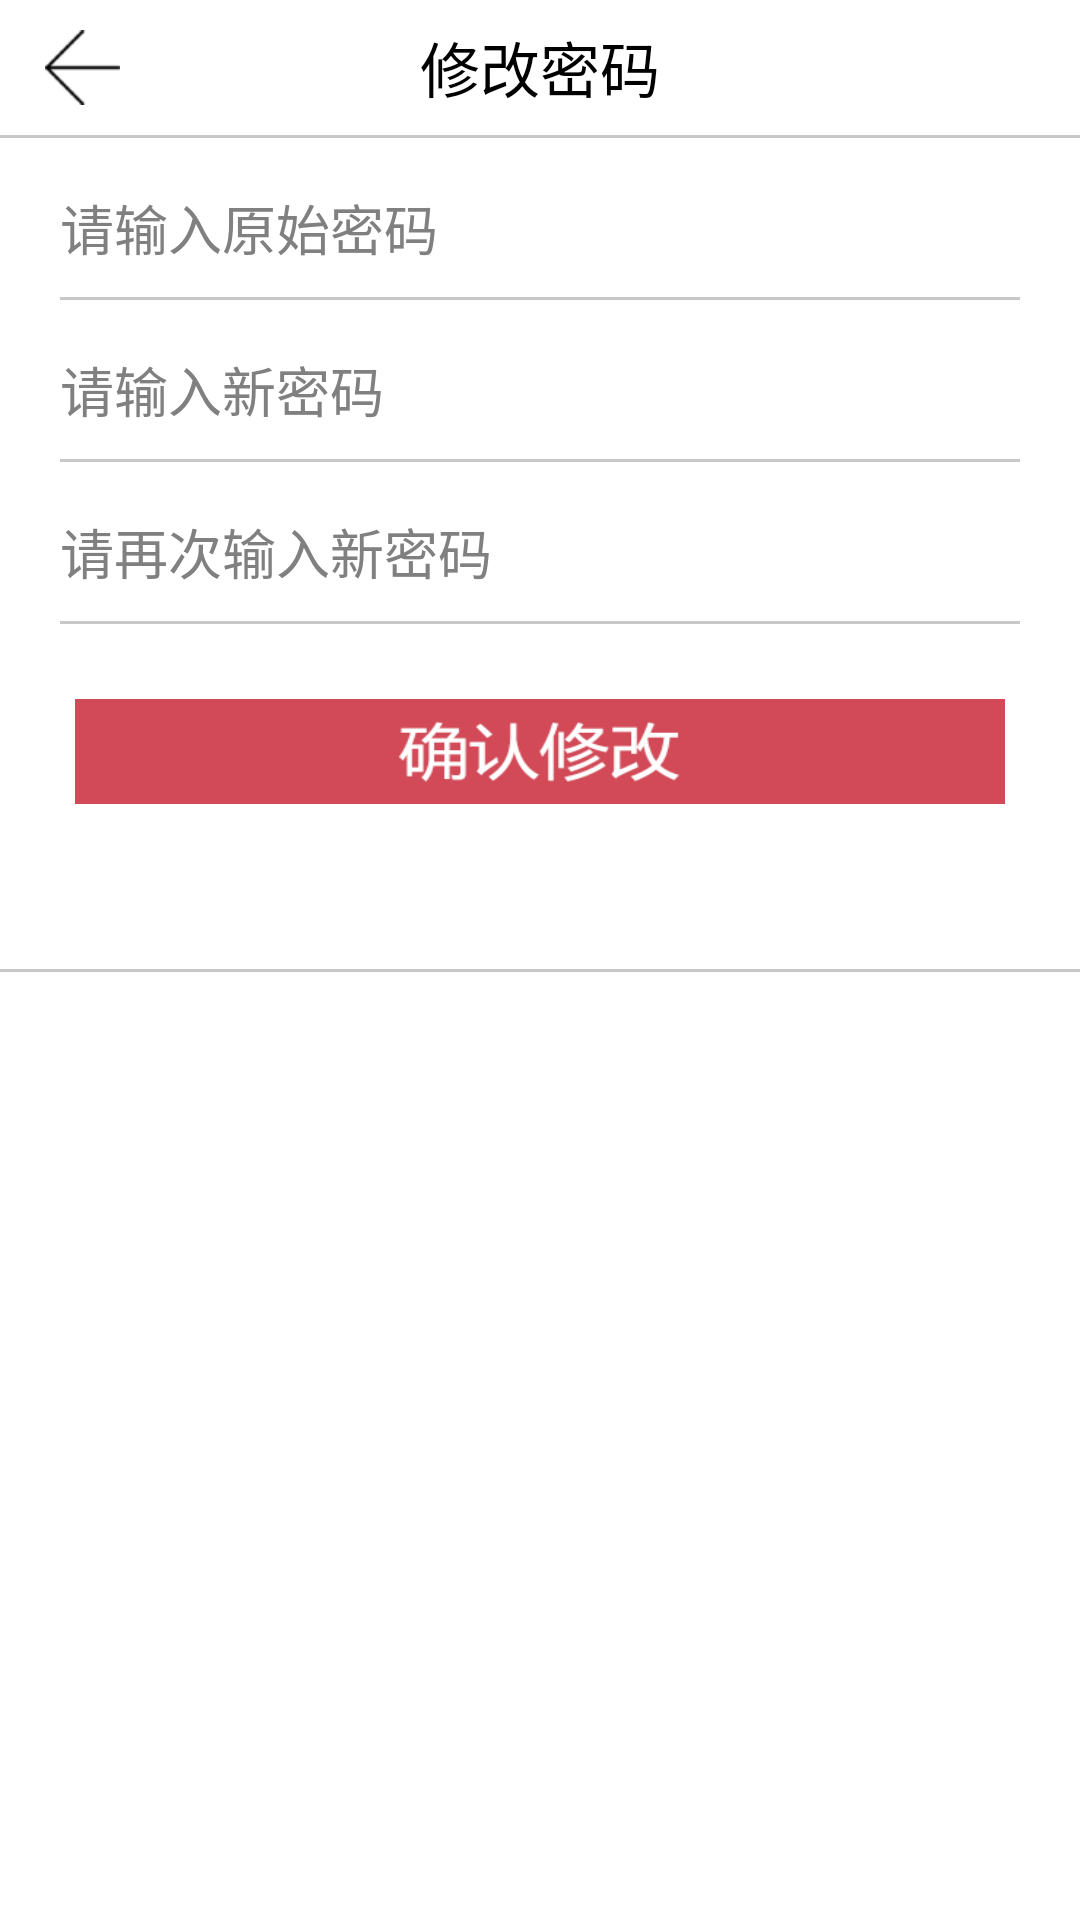

Screen size 1080w x 1920h. Icon name, then its center in pixels as (x=x, y=y):
left: (x=82, y=67)
